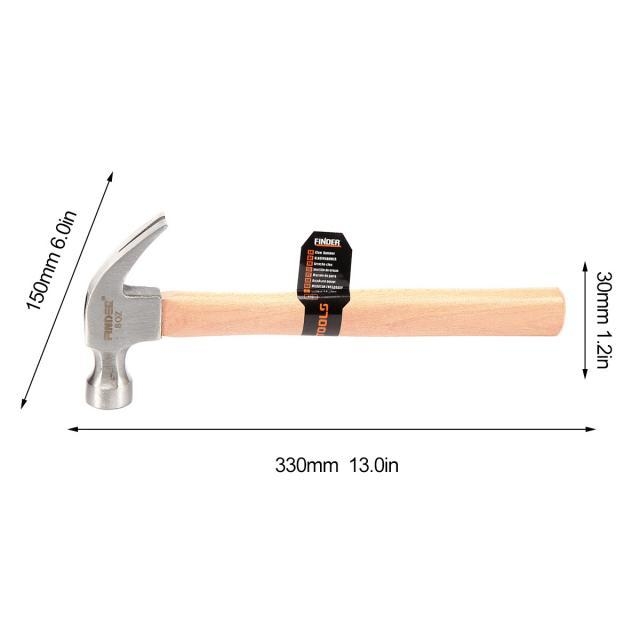hammer: (70, 204, 574, 420)
